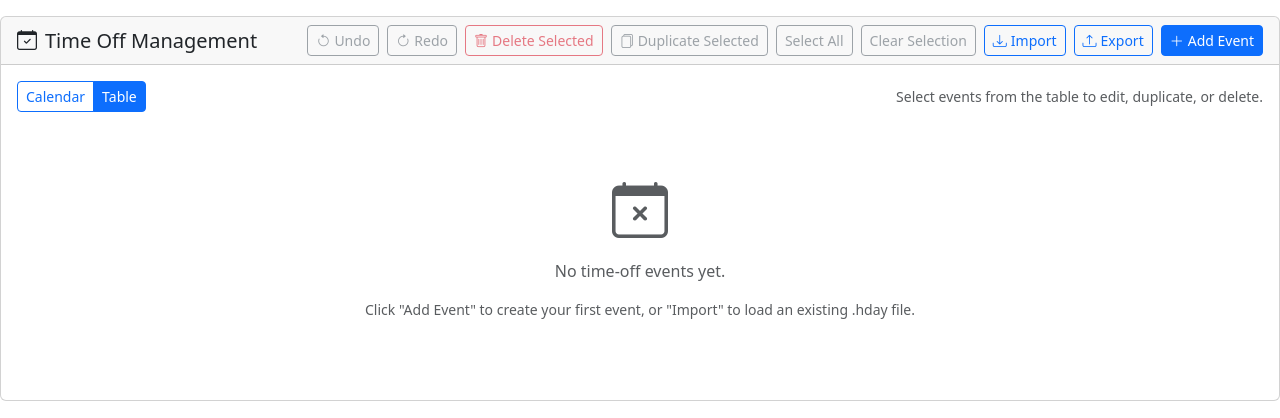
it: TimeOffView › Export › should show error when exporting with no events
Step 1. Click the button "Export" → (1113, 40), box [1074, 25, 1153, 56]
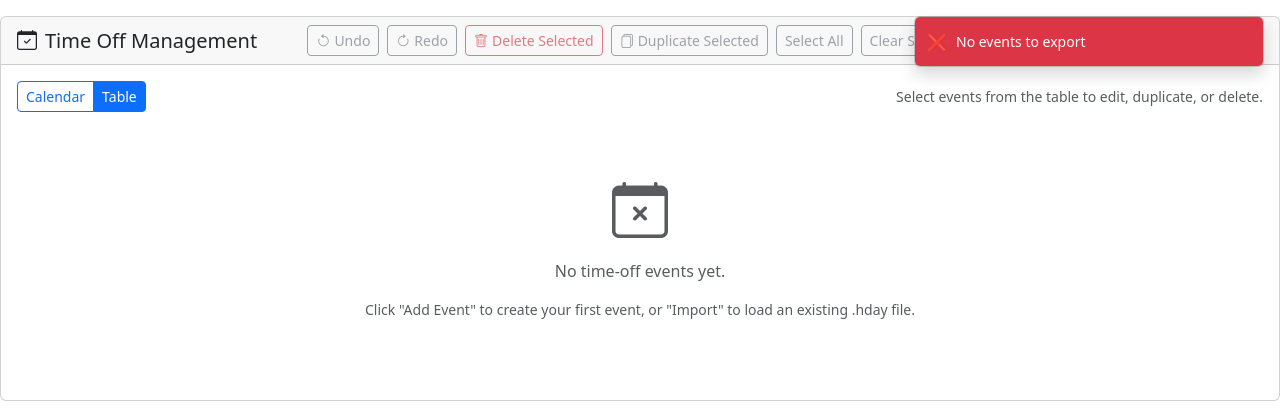
Result: the text "No events to export" is shown at [956, 31, 1086, 52]
